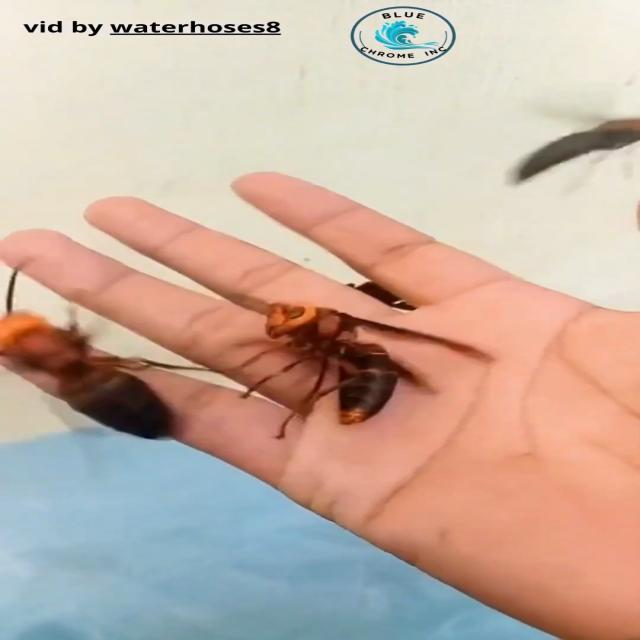Hornets: (2, 262, 226, 442), (237, 300, 494, 441)
